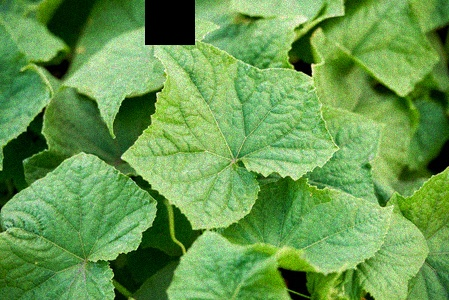cucumber_plant: (130, 34, 394, 300)
